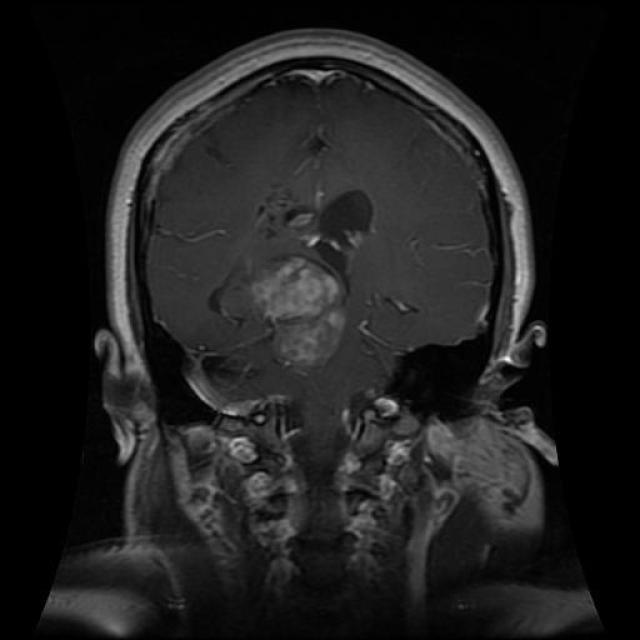glioma: (246, 192, 369, 376)
